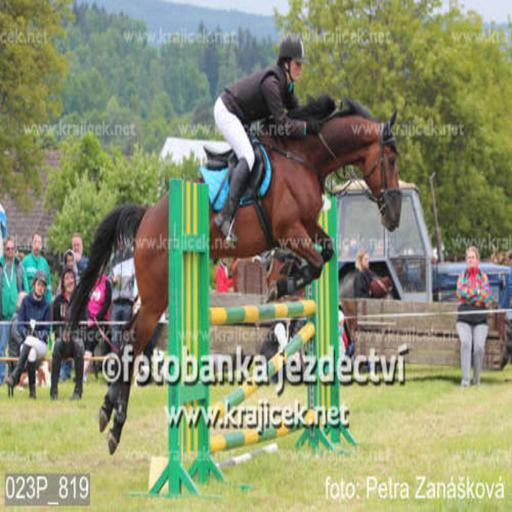horse: (60, 92, 402, 455)
